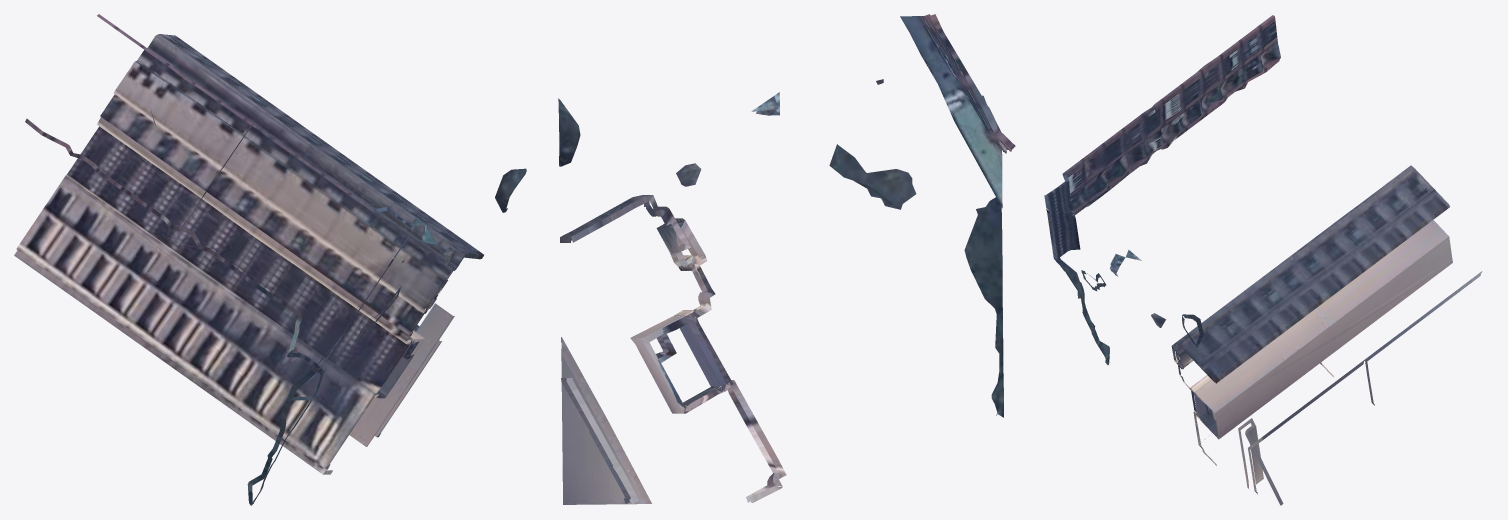
The picture shows the model from 3 angles, left to right: view 1: azimuth 30°, elevation 25°; view 2: azimuth 150°, elevation 25°; view 3: azimuth 270°, elevation 25°; orthographic projection. The views are drawn at different scales.
Size of the model in its own units: 48.01 by 50.18 by 54.07.
1 material, 1 textured.
